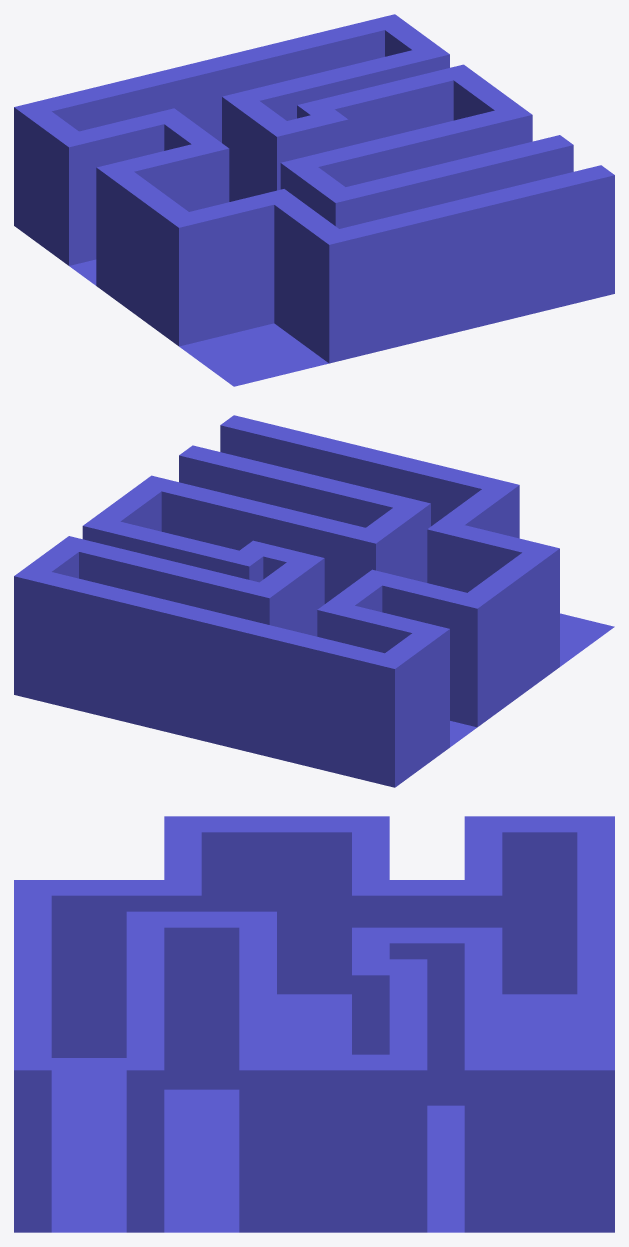
3 views of the same model, one above another, from view 1: azimuth 30°, elevation 25°; view 2: azimuth 150°, elevation 25°; view 3: azimuth 270°, elevation 25° (orthographic). The views are drawn at different scales.
Visible parts, largest first — view 1: Plane; view 2: Plane; view 3: Plane.
Part boxes in pixels (x1=…): Plane: x1=14, y1=14, x2=614, y2=386; Plane: x1=14, y1=415, x2=614, y2=787; Plane: x1=14, y1=816, x2=614, y2=1232.
Bounding box in the file's own units: 60.96 × 18.14 × 60.96.
